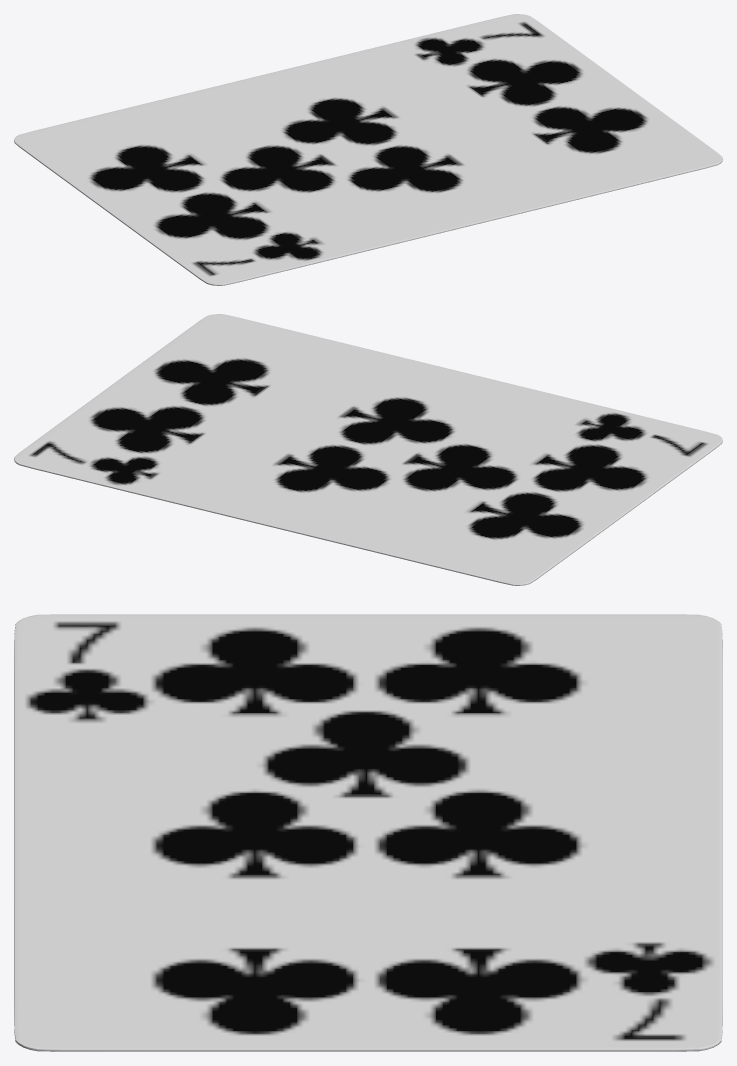
File: __of_clubs5.fbx
3 views of the same model, one above another, from view 1: azimuth 30°, elevation 25°; view 2: azimuth 150°, elevation 25°; view 3: azimuth 270°, elevation 25° (orthographic). The views are drawn at different scales.
Parts seen in each view (by area): view 1: __of_clubs5; view 2: __of_clubs5; view 3: __of_clubs5.
Part boxes in pixels (<box>): __of_clubs5: <box>14,14,722,285</box>; __of_clubs5: <box>14,314,722,585</box>; __of_clubs5: <box>14,614,722,1051</box>.
Size of the model in its own units: 856 by 2.4 by 589.
